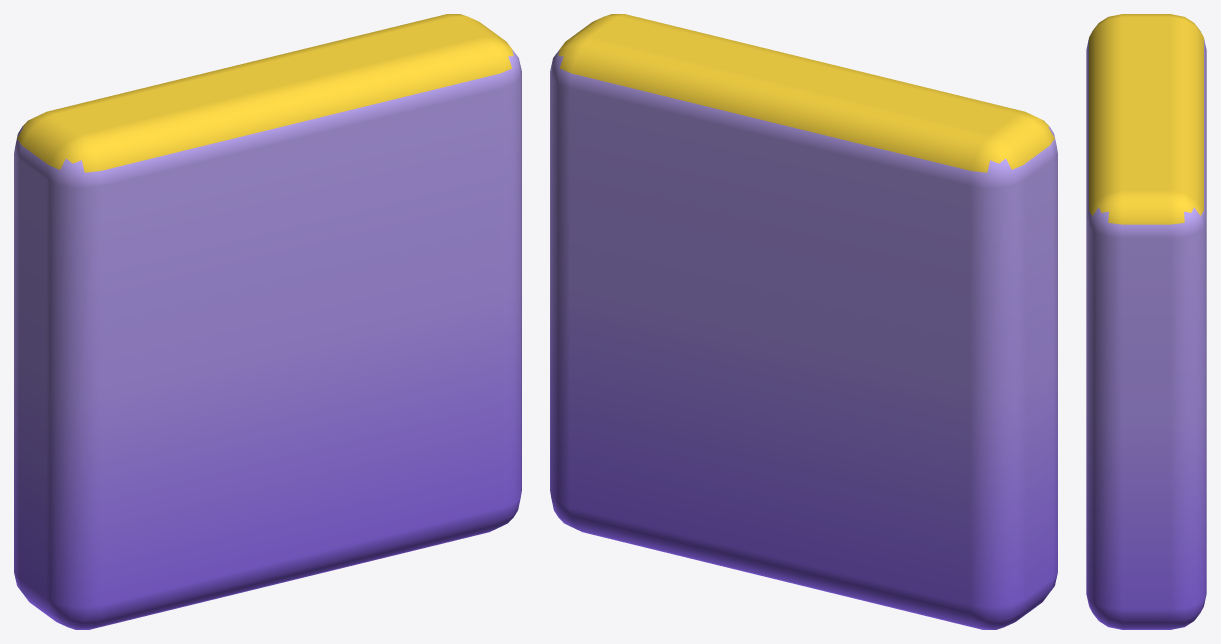
The model's file is wall_2x2.glb.
3 views of the same model, side by side, from view 1: azimuth 30°, elevation 25°; view 2: azimuth 150°, elevation 25°; view 3: azimuth 270°, elevation 25° (orthographic). The views are drawn at different scales.
Parts seen in each view (by area): view 1: wall_2x2; view 2: wall_2x2; view 3: wall_2x2.
Boxes of the visible parts, <box> form: wall_2x2: <box>14,14,521,629</box>; wall_2x2: <box>550,14,1057,629</box>; wall_2x2: <box>1086,14,1206,629</box>.
Size of the model in its own units: 2 by 2 by 0.5.
Materials: 1 (1 with a texture image).
